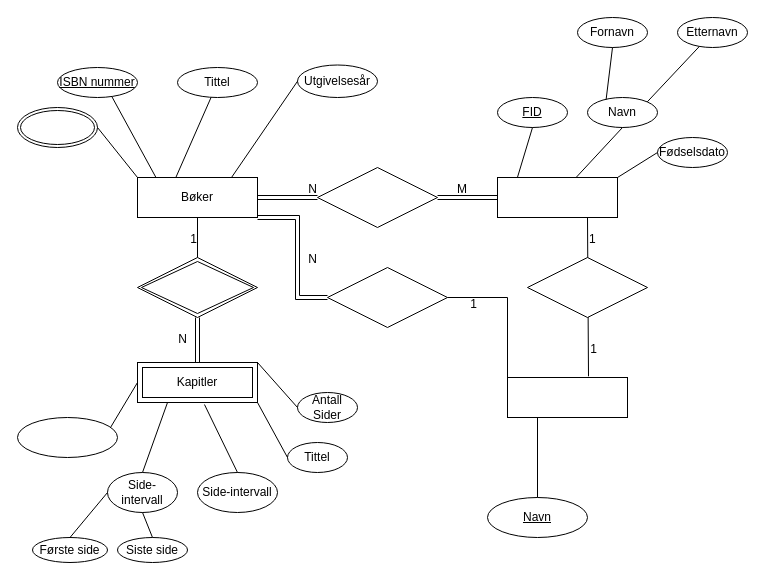
Image size: 765x580. Some labels were removed from this diagram. Each missing label, with the centre of its shape:
"Forfatter" belongs at pixel 557 197.
"Forlag" belongs at pixel 567 397.
"Gir ut" belongs at pixel 387 297.
"Inneholder" belongs at pixel 197 287.
"Kapittelnummer" belongs at pixel 67 437.
"Sjangere" belongs at pixel 57 127.
"Skrevet" belongs at pixel 377 197.
"Stjerneforfatter" belongs at pixel 587 287.
